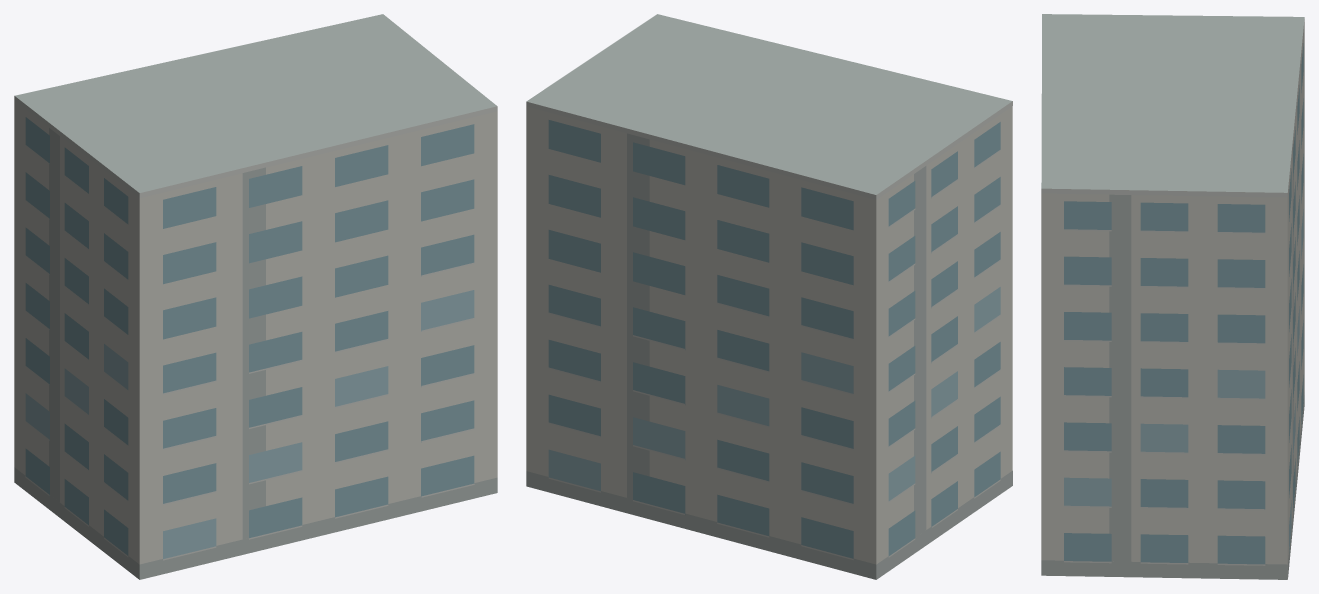
File: survey-upis-32847949.glb
3 views of the same model, side by side, from view 1: azimuth 30°, elevation 25°; view 2: azimuth 150°, elevation 25°; view 3: azimuth 270°, elevation 25° (orthographic).
Visible parts, largest first — view 1: survey-upis-32847949.tmp; view 2: survey-upis-32847949.tmp; view 3: survey-upis-32847949.tmp.
Boxes of the visible parts, x1,y1,x2,y2 form: survey-upis-32847949.tmp: (14, 14, 497, 579); survey-upis-32847949.tmp: (526, 14, 1012, 579); survey-upis-32847949.tmp: (1041, 14, 1304, 579).
Size of the model in its own units: 18.94 by 19.1 by 11.79.
